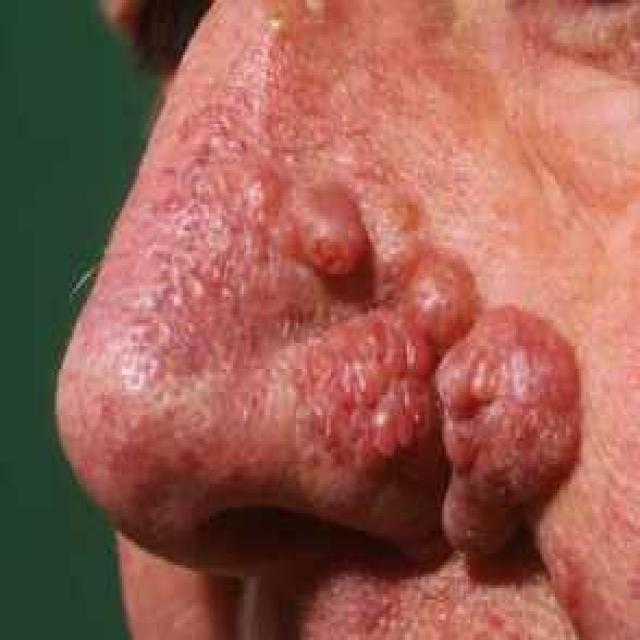Rosacea: (69, 72, 466, 517)
